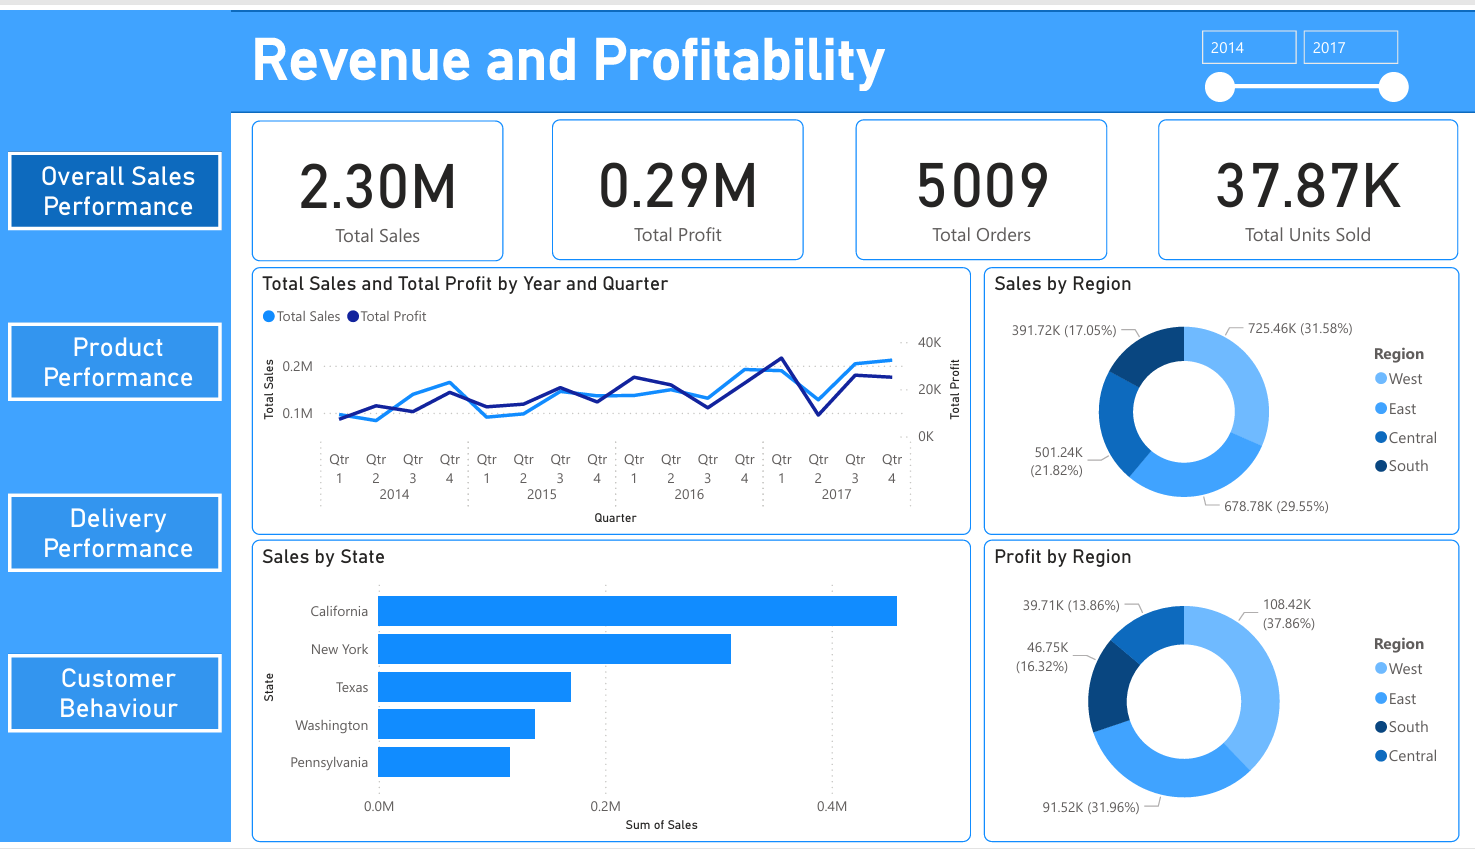

The dashboard page shown, as its layout file describes it:
{"tool":"powerbi","page":{"name":"Overall Sales","canvas":[1280,720],"ordinal":1},"visuals":[{"type":"shape","box":[0,0,1280,88.3],"z":0},{"type":"textbox","title":"Revenue and Profitability","box":[213.3,13.3,915,61.7],"z":1000},{"type":"shape","box":[0,0,200,720],"z":2000},{"type":"slicer","fields":{"Values":["Result 1.Year"]},"box":[1028.3,6.7,200,76.7],"z":3000},{"type":"card","fields":{"Values":["Sum(Result 1.Sales)"]},"box":[218.3,95,218.3,121.7],"z":4000},{"type":"card","fields":{"Values":["Sum(Result 1.Profit)"]},"box":[477.8,94.4,218.3,121.7],"z":5000},{"type":"card","fields":{"Values":["Count(Retails Order Full Dataset.Order ID)"]},"box":[741.1,94.4,218.3,121.7],"z":6000},{"type":"card","fields":{"Values":["Sum(Retails Order Full Dataset.Quantity)"]},"box":[1002.8,94.4,260,121.7],"z":7000},{"type":"lineChart","title":"Total Sales and Total Profit by Year and Quarter","fields":{"Y":["Sum(Retails Order Full Dataset.Sales)"],"Category":["Retails Order Full Dataset.Order Date.Variation.Date Hierarchy.Year","Retails Order Full Dataset.Order Date.Variation.Date Hierarchy.Quarter"],"Y2":["Sum(Retails Order Full Dataset.Profit)"]},"box":[218.3,221.7,623.3,231.7],"z":8000},{"type":"donutChart","title":"Sales by Region","fields":{"Category":["Retail_Data.Region"],"Y":["Sum(Retail_Data.Sales)"]},"box":[851.7,221.7,411.7,231.7],"z":9000},{"type":"donutChart","title":"Profit by Region","fields":{"Category":["Retail_Data.Region"],"Y":["Sum(Retails Order Full Dataset.Profit)"]},"box":[851.7,458.3,411.7,261.7],"z":10000},{"type":"clusteredBarChart","title":"Sales by State","fields":{"Y":["Sum(Retails Order Full Dataset.Sales)"],"Category":["Retails Order Full Dataset.State"]},"box":[218.3,458.3,623.3,261.7],"z":11000},{"type":"textbox","title":"Overall Sales Performance","box":[6.7,121.7,185,68.3],"z":12000},{"type":"textbox","title":"Product Performance","box":[6.7,270,185,68.3],"z":13000},{"type":"textbox","title":"Delivery Performance","box":[6.7,418.3,185,68.3],"z":14000},{"type":"textbox","title":"Customer Behaviour","box":[6.7,556.7,185,68.3],"z":15000}]}

Visuals, with their boxes in screenshot pixels (x1, y1, x2, y2), scaled from the page's 1280x720 canvas onto the 1475x849 screenshot:
shape: crop(0, 0, 1474, 104)
"Revenue and Profitability" textbox: crop(246, 16, 1300, 88)
shape: crop(0, 0, 230, 848)
slicer - Result 1.Year: crop(1185, 8, 1415, 98)
card - Sum(Result 1.Sales): crop(252, 112, 503, 256)
card - Sum(Result 1.Profit): crop(551, 111, 802, 255)
card - Count(Retails Order Full Dataset.Order ID): crop(854, 111, 1106, 255)
card - Sum(Retails Order Full Dataset.Quantity): crop(1156, 111, 1455, 255)
"Total Sales and Total Profit by Year and Quarter" lineChart: crop(252, 261, 970, 535)
"Sales by Region" donutChart: crop(981, 261, 1456, 535)
"Profit by Region" donutChart: crop(981, 540, 1456, 848)
"Sales by State" clusteredBarChart: crop(252, 540, 970, 848)
"Overall Sales Performance" textbox: crop(8, 144, 221, 224)
"Product Performance" textbox: crop(8, 318, 221, 399)
"Delivery Performance" textbox: crop(8, 493, 221, 574)
"Customer Behaviour" textbox: crop(8, 656, 221, 737)
